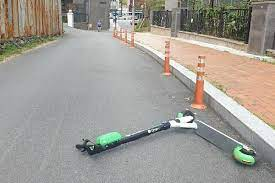fallin_kick: (74, 110, 257, 166)
